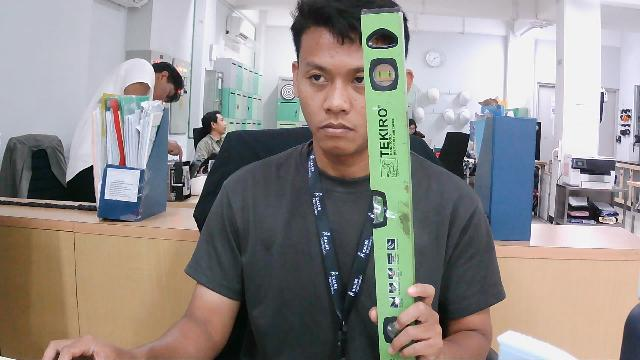water_pass: (352, 6, 450, 360)
